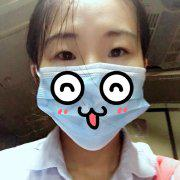OK: (35, 23, 148, 148)
